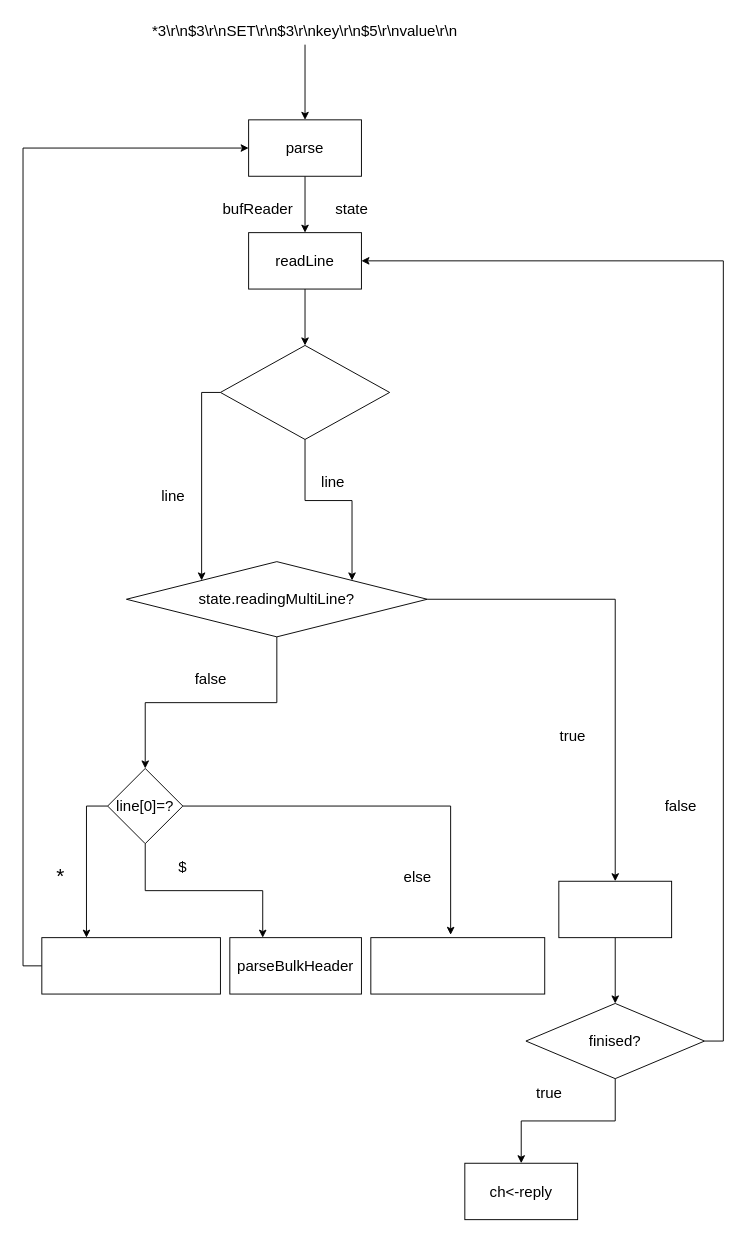
Image size: 747x1236. Some labels were removed from this diagram. The shapes that lost their labels are listed below. From the top down, each one's centre as x and y in pixels, then its label:
[304,392]: state.bulkLen==0?
[615,909]: readBody
[130,965]: parseMultiBulkHeader
[457,965]: parsesingleLineReply
